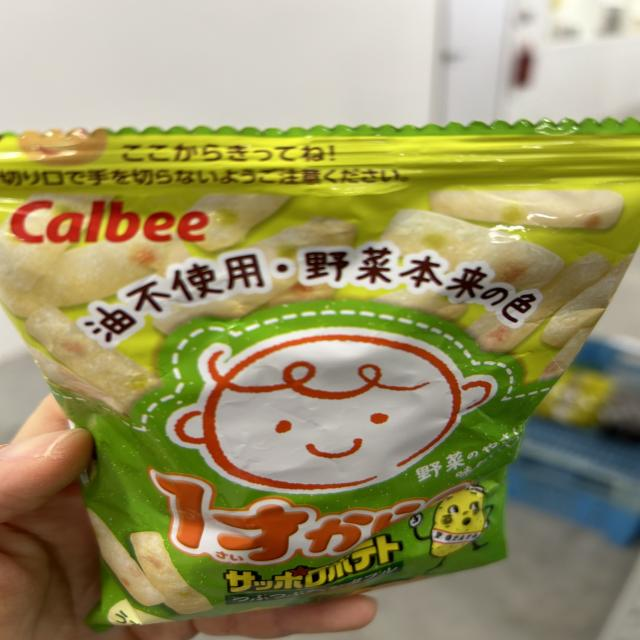object_name: (36, 151, 552, 603)
